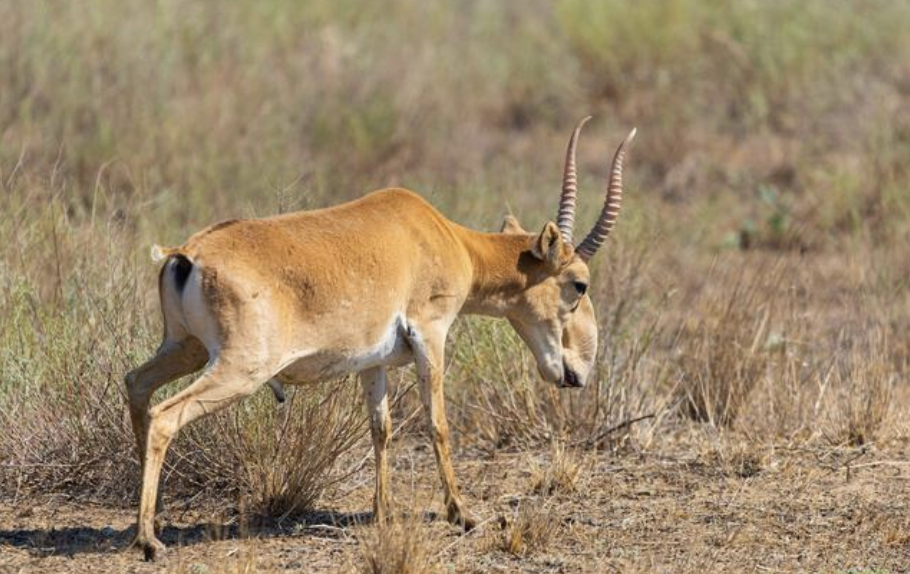saiga: (89, 121, 620, 517)
